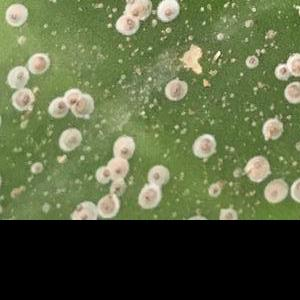Femea: (245, 158, 267, 179), (263, 119, 282, 139), (194, 135, 211, 157), (158, 1, 177, 20), (114, 137, 131, 158), (165, 80, 182, 100), (138, 187, 157, 204), (29, 57, 48, 74), (14, 92, 34, 108), (71, 206, 95, 219), (145, 165, 163, 182), (7, 6, 24, 23), (91, 167, 110, 182), (265, 185, 283, 200), (285, 82, 299, 101), (60, 96, 76, 112), (100, 197, 115, 214), (63, 132, 77, 149), (125, 13, 140, 28), (111, 161, 124, 178), (14, 68, 27, 85), (69, 110, 89, 121), (134, 1, 150, 14), (73, 87, 85, 103), (272, 67, 284, 82), (219, 209, 236, 218), (111, 181, 122, 194), (247, 57, 258, 67), (29, 164, 42, 171), (209, 186, 219, 195)
Linfa: (104, 106, 133, 131), (115, 59, 143, 84), (138, 97, 161, 117), (156, 47, 177, 62), (156, 63, 177, 76), (143, 59, 155, 77), (129, 85, 145, 98), (254, 46, 267, 56), (146, 75, 155, 87), (244, 17, 253, 29), (54, 155, 66, 162), (200, 78, 209, 87), (215, 31, 222, 40), (249, 7, 256, 11)
Macho: (217, 48, 223, 61)
